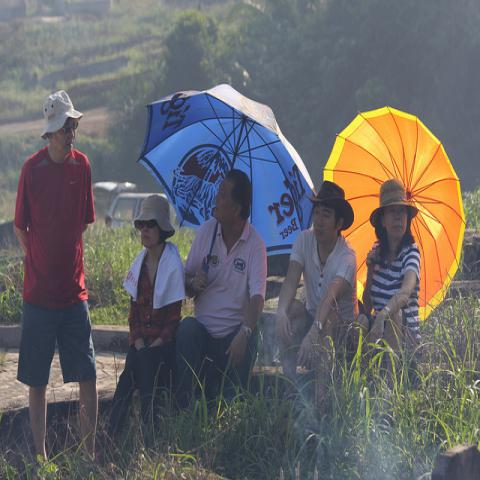car: (107, 192, 170, 226), (92, 182, 139, 207)
